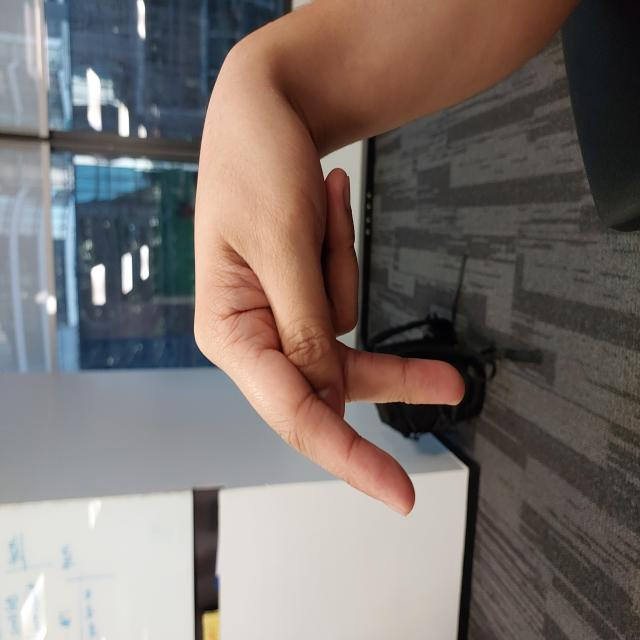P: (118, 188, 580, 467)
